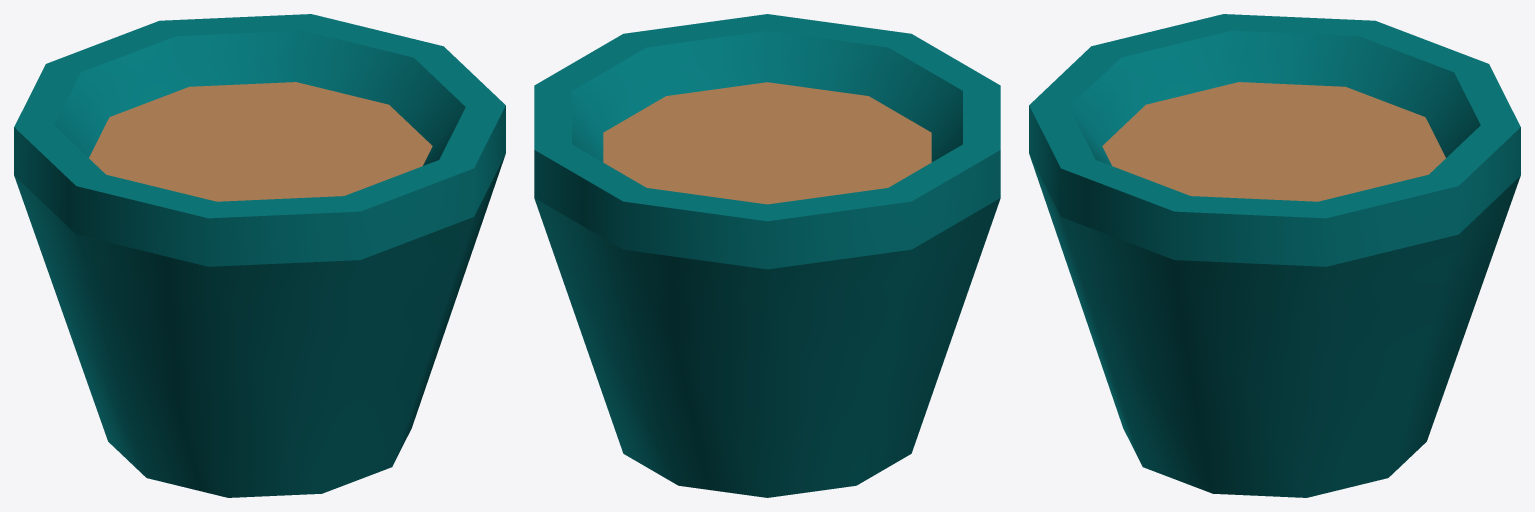
The model's file is PlantPot_5_C.glb.
The picture shows the model from 3 angles, left to right: view 1: azimuth 30°, elevation 25°; view 2: azimuth 150°, elevation 25°; view 3: azimuth 270°, elevation 25°; orthographic projection.
Visible parts, largest first — view 1: PlantPot_5_C; view 2: PlantPot_5_C; view 3: PlantPot_5_C.
Boxes of the visible parts, bbox=[...] form: PlantPot_5_C: bbox=[14, 14, 505, 497]; PlantPot_5_C: bbox=[534, 14, 1000, 497]; PlantPot_5_C: bbox=[1029, 14, 1520, 497].
Size of the model in its own units: 0.1893 by 0.1376 by 0.1924.
Materials: 1 (1 with a texture image).
